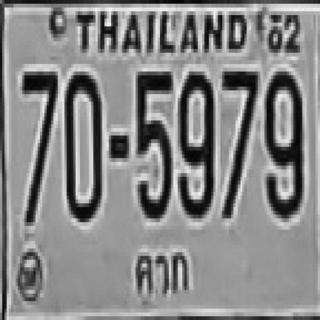N00: (63, 68, 101, 218)
N05: (136, 68, 171, 215)
N07: (20, 68, 56, 222), (220, 68, 255, 215), (20, 68, 56, 181)
N09: (264, 68, 302, 215), (176, 68, 213, 215)
P69: (132, 243, 197, 306)
